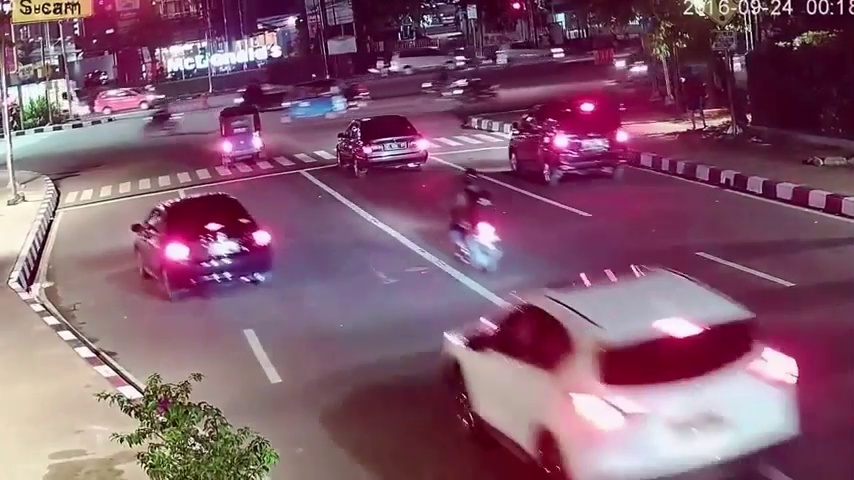car: (444, 268, 807, 480), (133, 188, 273, 302), (507, 103, 623, 190), (337, 115, 428, 177), (219, 105, 267, 168)
motorbike: (453, 165, 502, 273)
